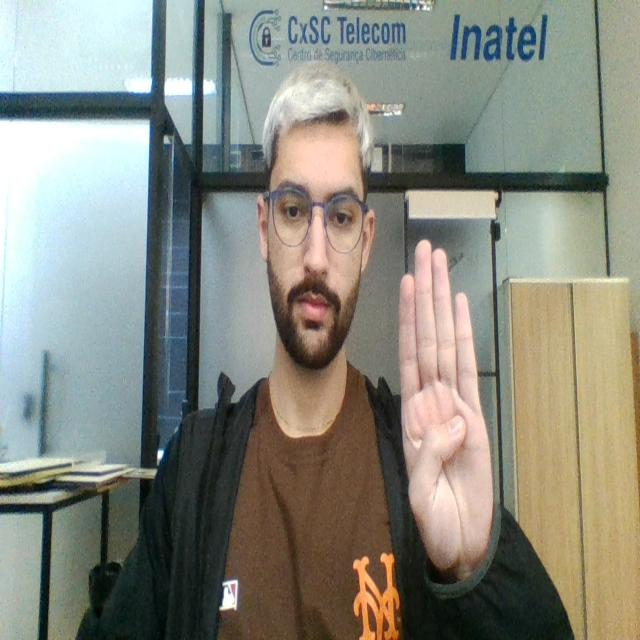B: (392, 236, 497, 574)
